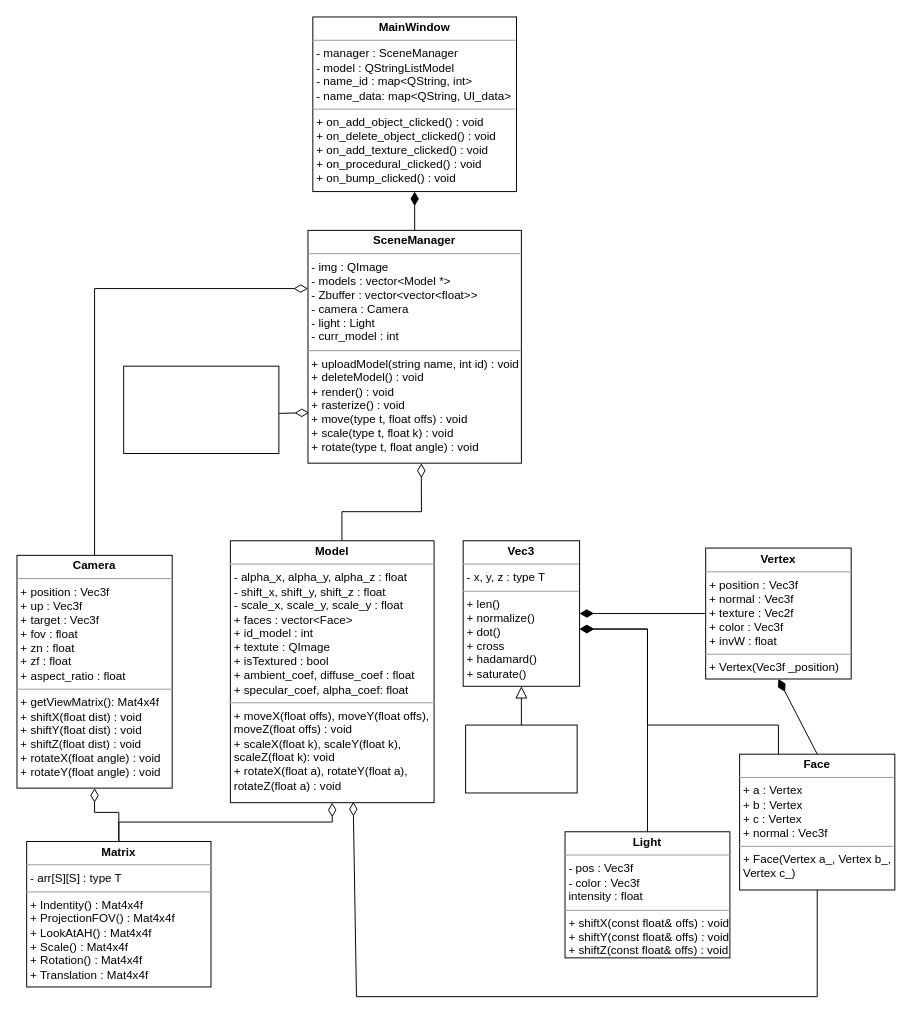
The diagram is 912 pixels wide and 1027 high, and some of its shapes have lost their labels. The shapes that lost their labels are listed below. From the top down, each one's box as (x1, y1, x2, y2) in pixels, then its label:
(123, 365, 279, 453): TextureShader + texture : Img + shade() : void
(465, 724, 577, 793): Vec4 - Vec3 - w : type T
